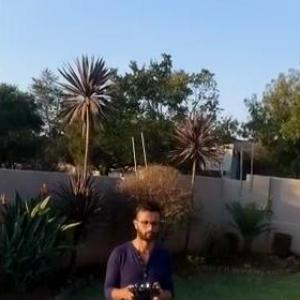follow: (100, 196, 176, 299)
